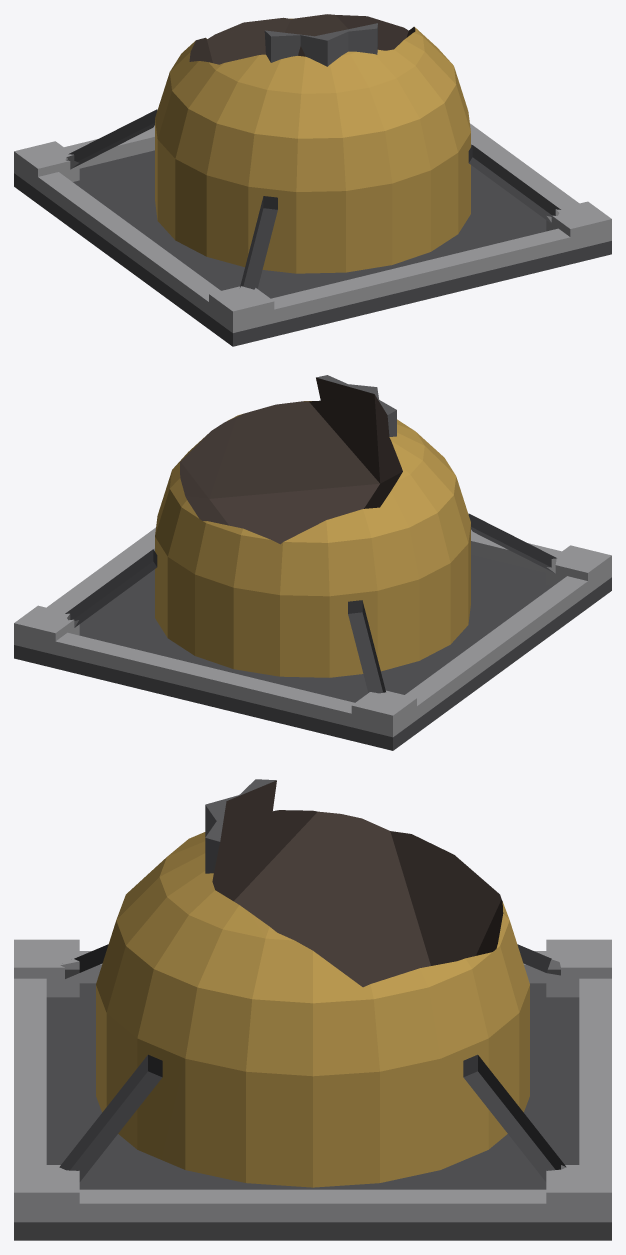
The model's file is vge_d_largeoxygentank.obj.
3 views of the same model, one above another, from view 1: azimuth 30°, elevation 25°; view 2: azimuth 150°, elevation 25°; view 3: azimuth 270°, elevation 25° (orthographic). The views are drawn at different scales.
Parts seen in each view (by area): view 1: vge_d_largeoxygentank; view 2: vge_d_largeoxygentank; view 3: vge_d_largeoxygentank.
Boxes of the visible parts, x1=… form: vge_d_largeoxygentank: x1=14, y1=14, x2=611, y2=346; vge_d_largeoxygentank: x1=14, y1=375, x2=611, y2=750; vge_d_largeoxygentank: x1=14, y1=779, x2=611, y2=1240.
Bounding box in the file's own units: 2.92 × 1.58 × 2.92.
